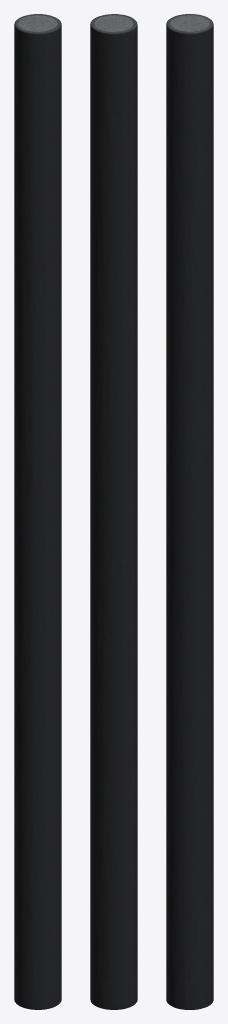
File: Meshy_AI_Graphite_Rod_Remesh_0924171144_texture.glb
The picture shows the model from 3 angles, left to right: view 1: azimuth 90°, elevation 25°; view 2: azimuth 150°, elevation 25°; view 3: azimuth 270°, elevation 25°; orthographic projection.
Parts seen in each view (by area): view 1: output_unwrapped; view 2: output_unwrapped; view 3: output_unwrapped.
Part boxes in pixels (bbox=[...]): output_unwrapped: bbox=[14, 14, 61, 1009]; output_unwrapped: bbox=[90, 14, 137, 1009]; output_unwrapped: bbox=[166, 14, 213, 1009].
Bounding box in the file's own units: 0.084 × 1.9 × 0.084.
1 material, 1 textured.
